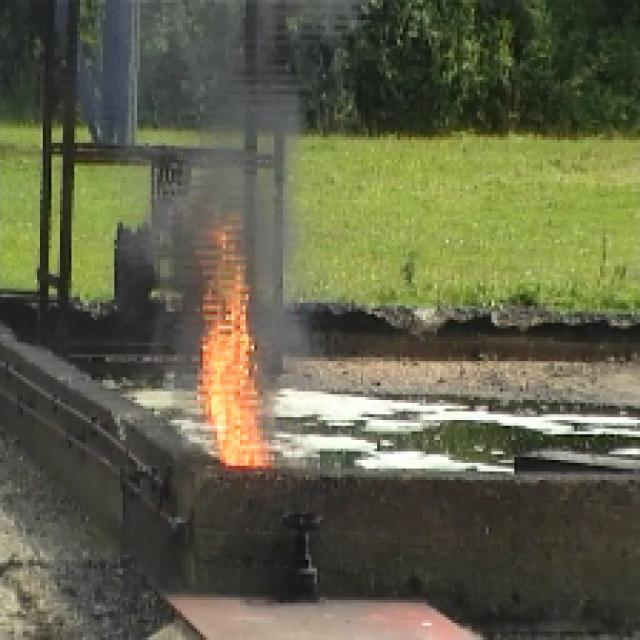Fire: (192, 258, 294, 466)
Smoke: (184, 146, 260, 237)
